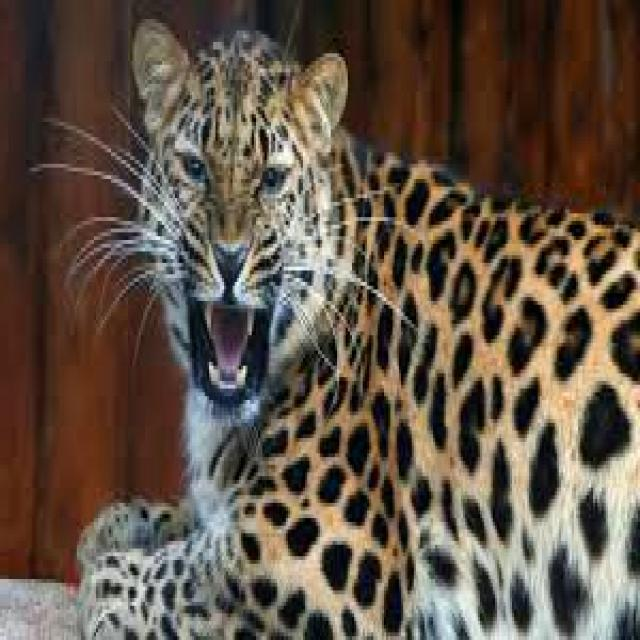leopard: (79, 19, 640, 636)
